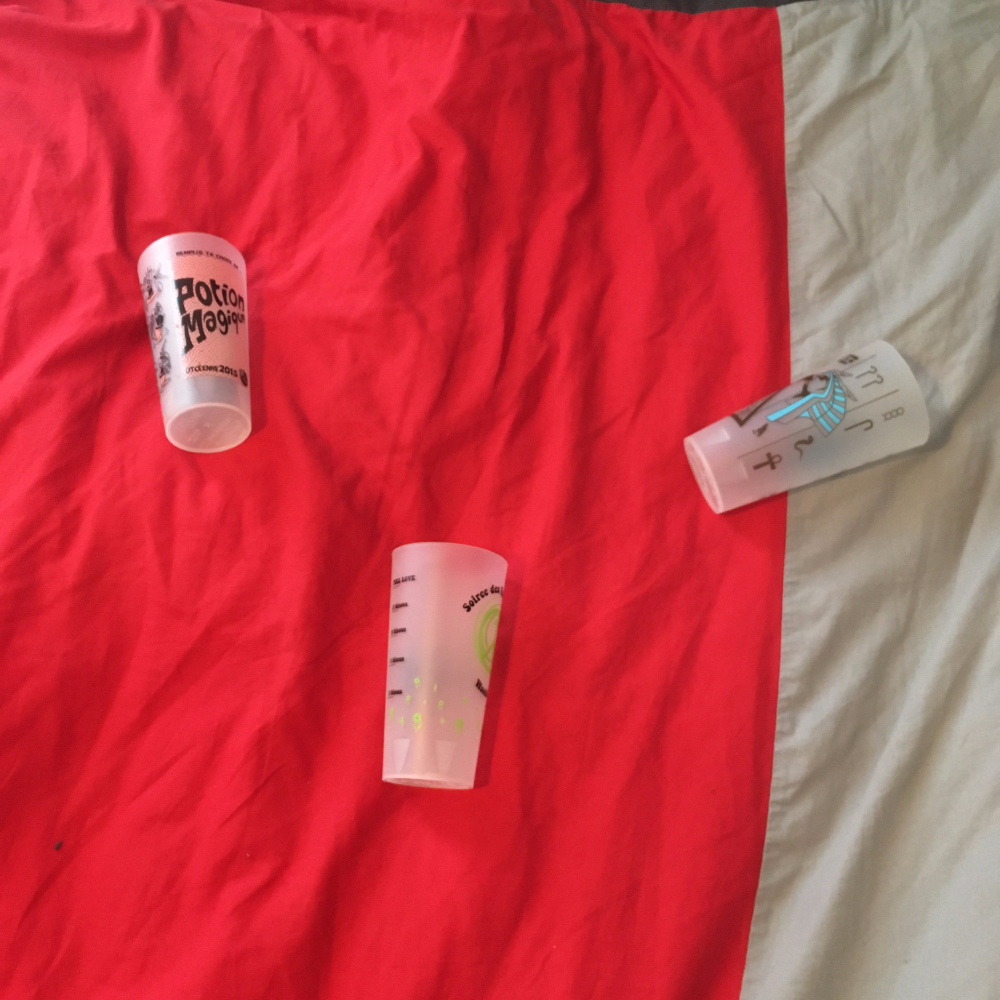ecocup: (684, 340, 929, 514), (381, 542, 507, 790), (136, 232, 252, 453)
